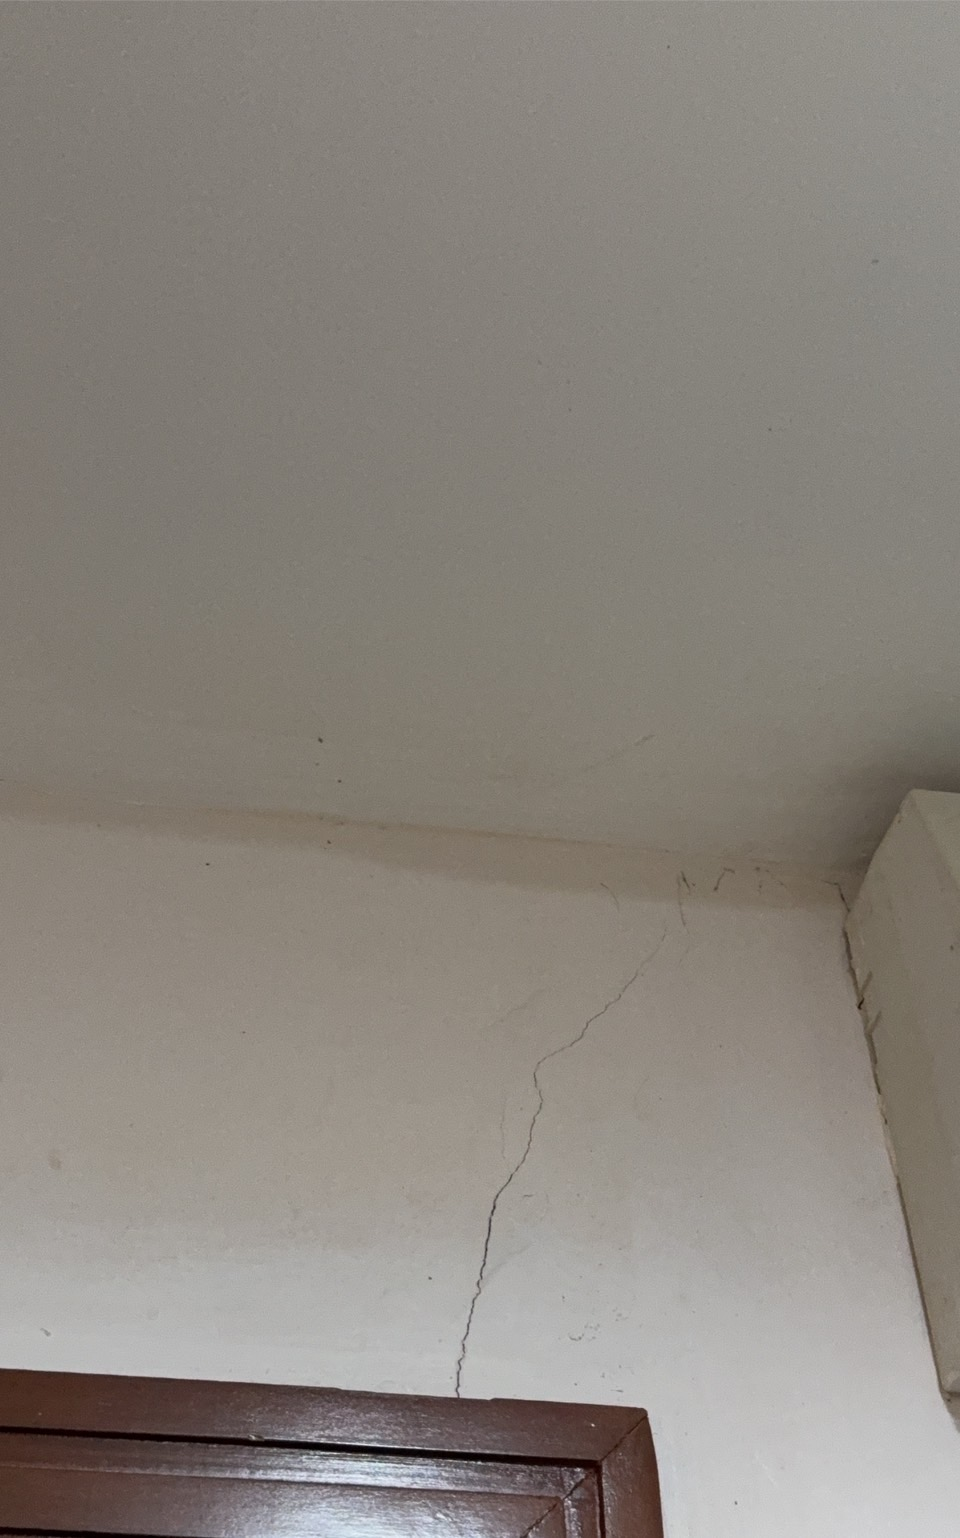Low: (437, 837, 756, 1400)
